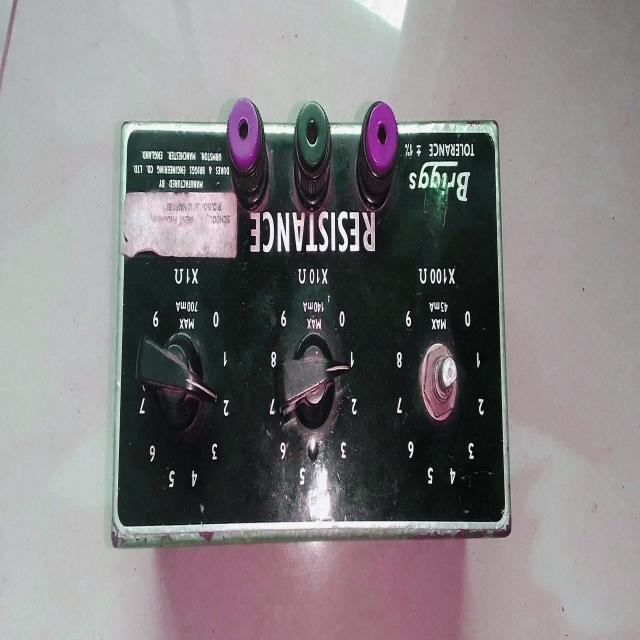Dial Resistance Box: (106, 87, 512, 565)
